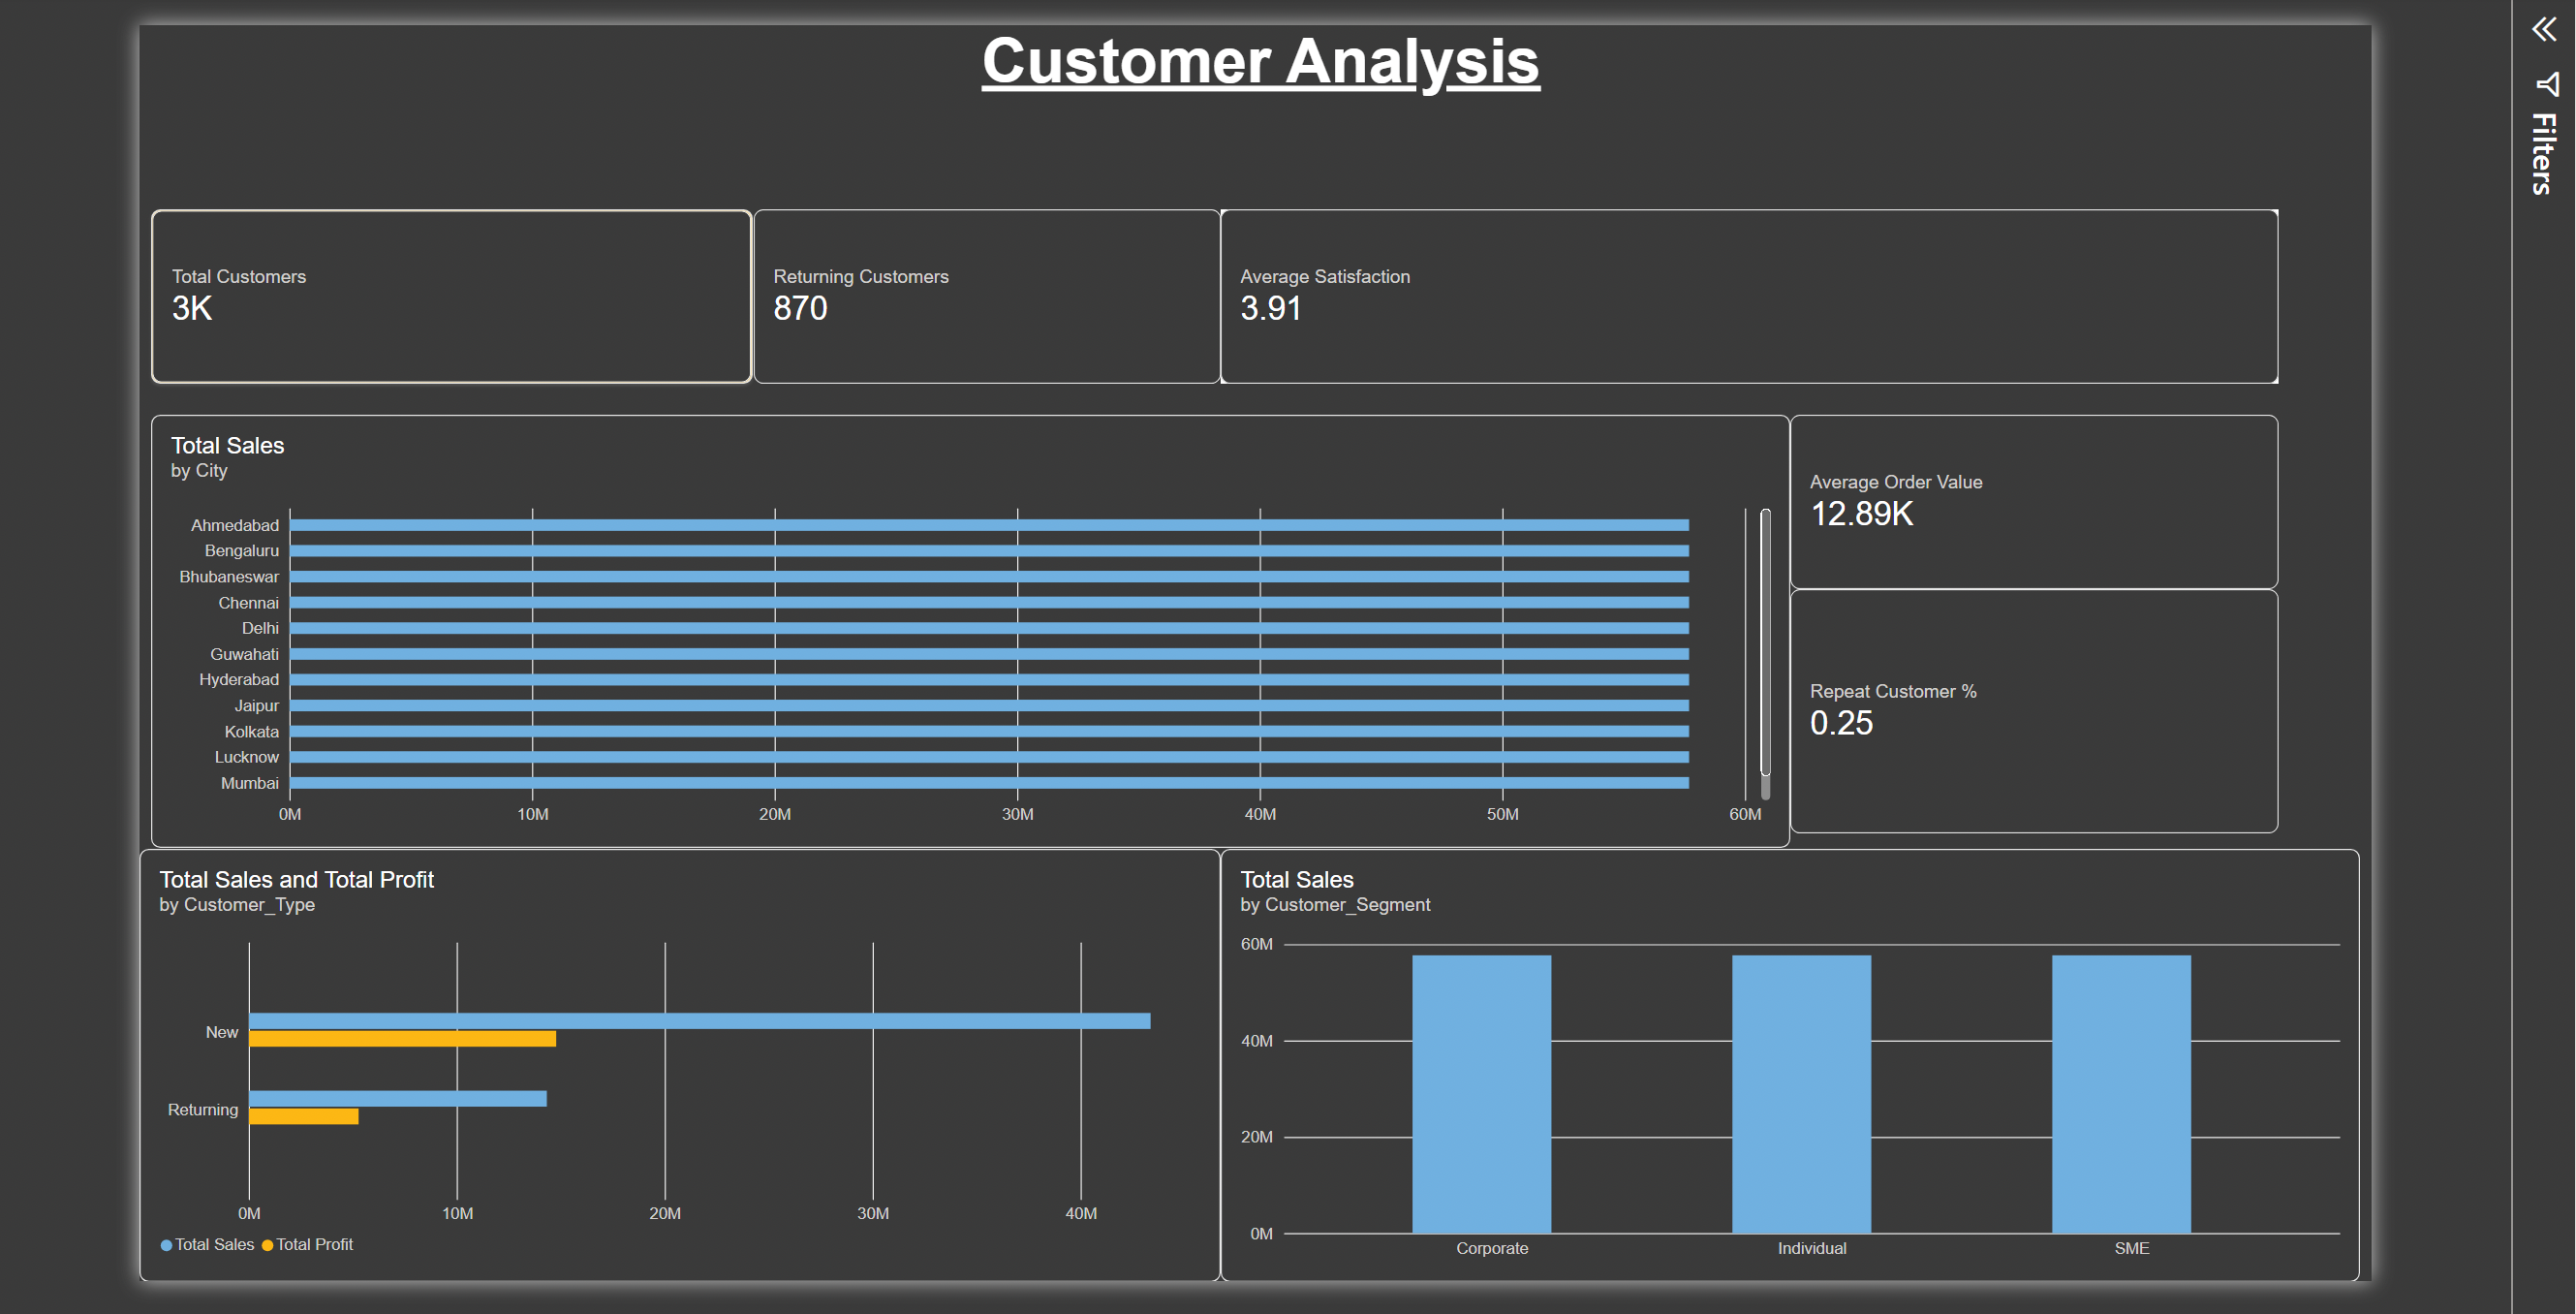

This screenshot's page, from the dashboard's own definition file:
{"tool":"powerbi","page":{"name":"Customers","canvas":[1920,1080],"ordinal":2},"visuals":[{"type":"textbox","box":[10,0,1910,100],"z":0},{"type":"clusteredBarChart","fields":{"Category":["SalesTransactionsTable.Customer_Type"],"Y":["SalesTransactionsTable.Total Sales","SalesTransactionsTable.Total Profit"]},"box":[0,707.5,930,372.5],"z":1000},{"type":"columnChart","fields":{"Category":["LeadsPipelineTable.Customer_Segment"],"Y":["SalesTransactionsTable.Total Sales"]},"box":[930,707.5,980,372.5],"z":2000},{"type":"clusteredBarChart","fields":{"Category":["LeadsPipelineTable.City"],"Y":["SalesTransactionsTable.Total Sales"]},"box":[10,335,1410,372.5],"z":3000},{"type":"cardVisual","fields":{"Data":["SalesTransactionsTable.Total Customers"]},"box":[10,157.5,517.5,150],"z":4000},{"type":"cardVisual","fields":{"Data":["SalesTransactionsTable.Returning Customers"]},"box":[527.5,157.5,402.5,150],"z":5000},{"type":"cardVisual","fields":{"Data":["SalesTransactionsTable.Repeat Customer %"]},"box":[1420,485,420,210],"z":6000},{"type":"cardVisual","fields":{"Data":["SalesTransactionsTable.Average Order Value"]},"box":[1420,335,420,150],"z":7000},{"type":"cardVisual","fields":{"Data":["SalesTransactionsTable.Average Satisfaction"]},"box":[930,157.5,910,150],"z":8000}]}

Visuals, with their boxes on the page's 1920x1080 design canvas (x1, y1, x2, y2). These are canvas units, not pixel positions in the 2576x1314 screenshot, which may show the page scaled, cropped or inside an application window:
textbox: (10, 0, 1920, 100)
clusteredBarChart - SalesTransactionsTable.Customer_Type x SalesTransactionsTable.Total Sales: (0, 708, 930, 1080)
columnChart - LeadsPipelineTable.Customer_Segment x SalesTransactionsTable.Total Sales: (930, 708, 1910, 1080)
clusteredBarChart - LeadsPipelineTable.City x SalesTransactionsTable.Total Sales: (10, 335, 1420, 708)
cardVisual - SalesTransactionsTable.Total Customers: (10, 158, 528, 308)
cardVisual - SalesTransactionsTable.Returning Customers: (528, 158, 930, 308)
cardVisual - SalesTransactionsTable.Repeat Customer %: (1420, 485, 1840, 695)
cardVisual - SalesTransactionsTable.Average Order Value: (1420, 335, 1840, 485)
cardVisual - SalesTransactionsTable.Average Satisfaction: (930, 158, 1840, 308)
